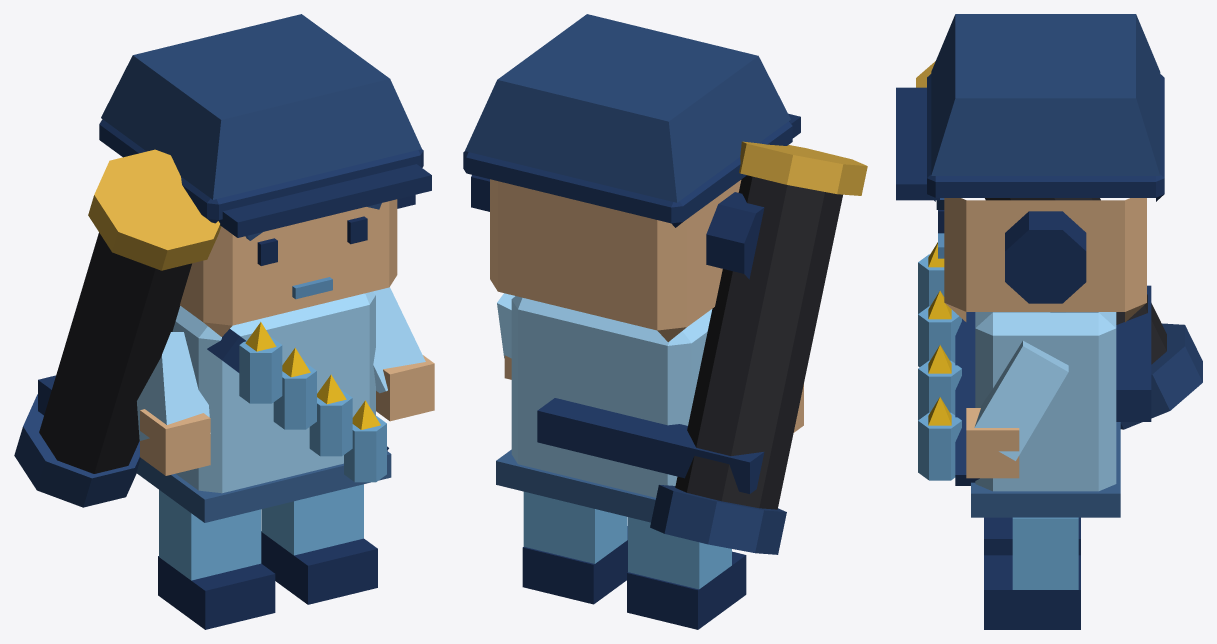
Rendered from mortar_r2.glb.
The picture shows the model from 3 angles, left to right: view 1: azimuth 30°, elevation 25°; view 2: azimuth 150°, elevation 25°; view 3: azimuth 270°, elevation 25°; orthographic projection. The views are drawn at different scales.
Parts seen in each view (by area): view 1: mortar_r2_mesh; view 2: mortar_r2_mesh; view 3: mortar_r2_mesh.
Part boxes in pixels (x1,y1,x2,y2): mortar_r2_mesh: (14,14,434,629); mortar_r2_mesh: (463,14,867,629); mortar_r2_mesh: (896,14,1202,629).
Bounding box in the file's own units: 1.12 × 1.7 × 0.8908.
1 material, 1 textured.
